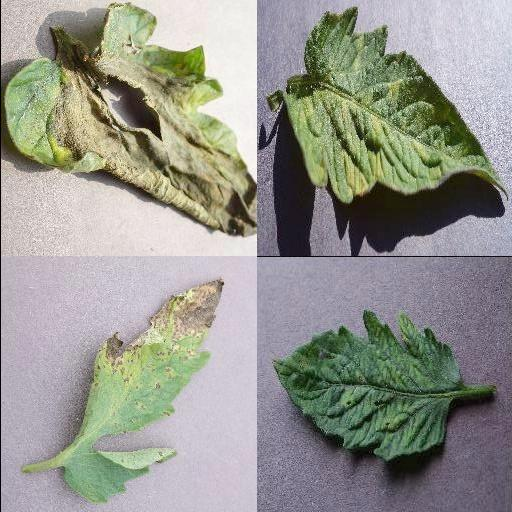Late Blight: (0, 1, 256, 237)
Leaf Mold: (284, 8, 510, 204)
Mosaic Virus: (270, 307, 464, 463)
Septoria: (61, 281, 225, 502)
